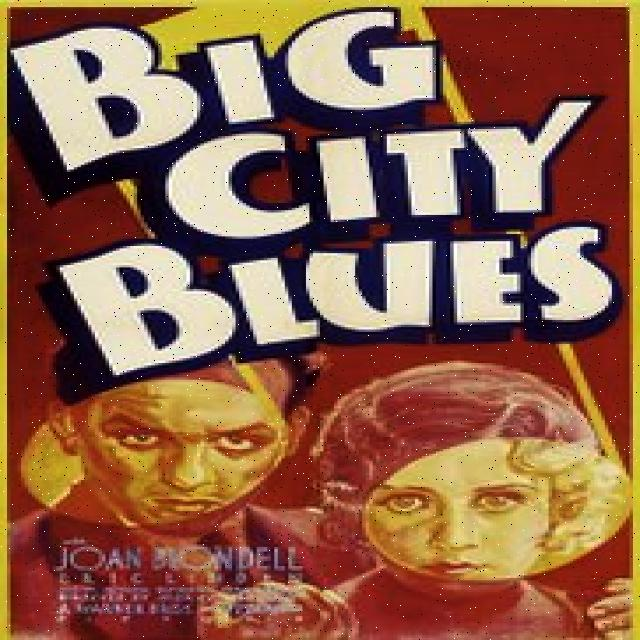movie-judul: (11, 7, 632, 376)
picture: (6, 338, 634, 640)
